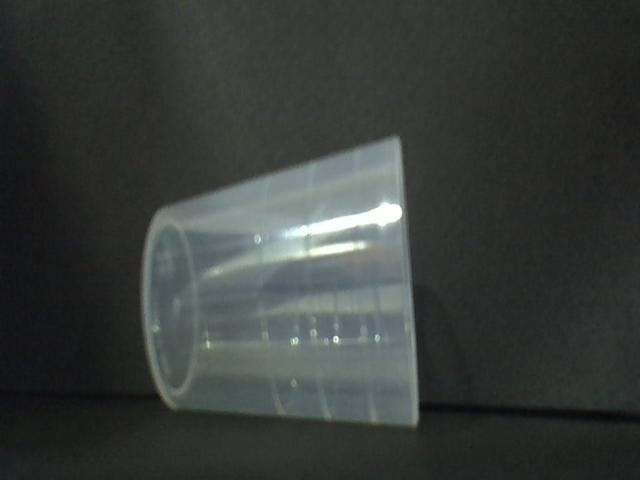cup: (137, 138, 426, 430)
